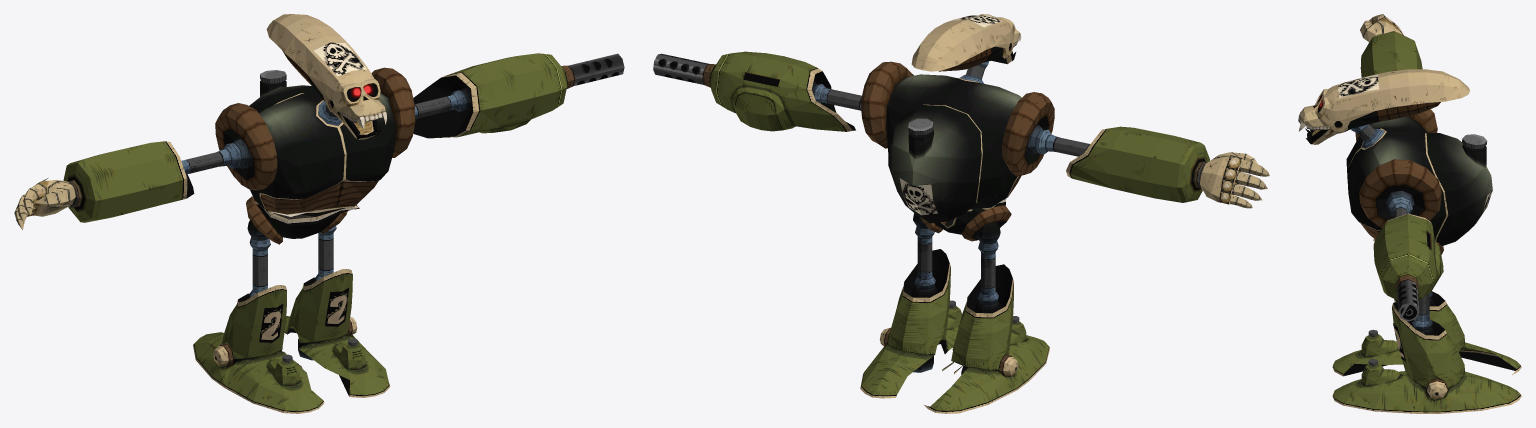
File: crimson-guard-lod0.glb
3 renders of one model, left to right at view 1: azimuth 30°, elevation 25°; view 2: azimuth 150°, elevation 25°; view 3: azimuth 270°, elevation 25°, orthographic. The views are drawn at different scales.
Parts seen in each view (by area): view 1: mesh0000; view 2: mesh0000; view 3: mesh0000.
Part boxes in pixels (x1,y1,x2,y2): mesh0000: (14, 14, 624, 413); mesh0000: (653, 14, 1269, 413); mesh0000: (1298, 14, 1521, 413).
Size of the model in its own units: 6.7 by 3.6 by 2.32.
1 material, 1 textured.
